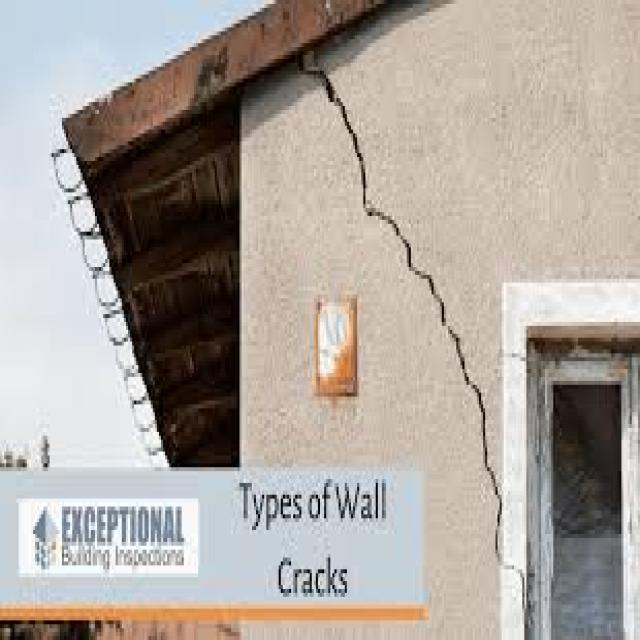Crack: (303, 61, 526, 601)
